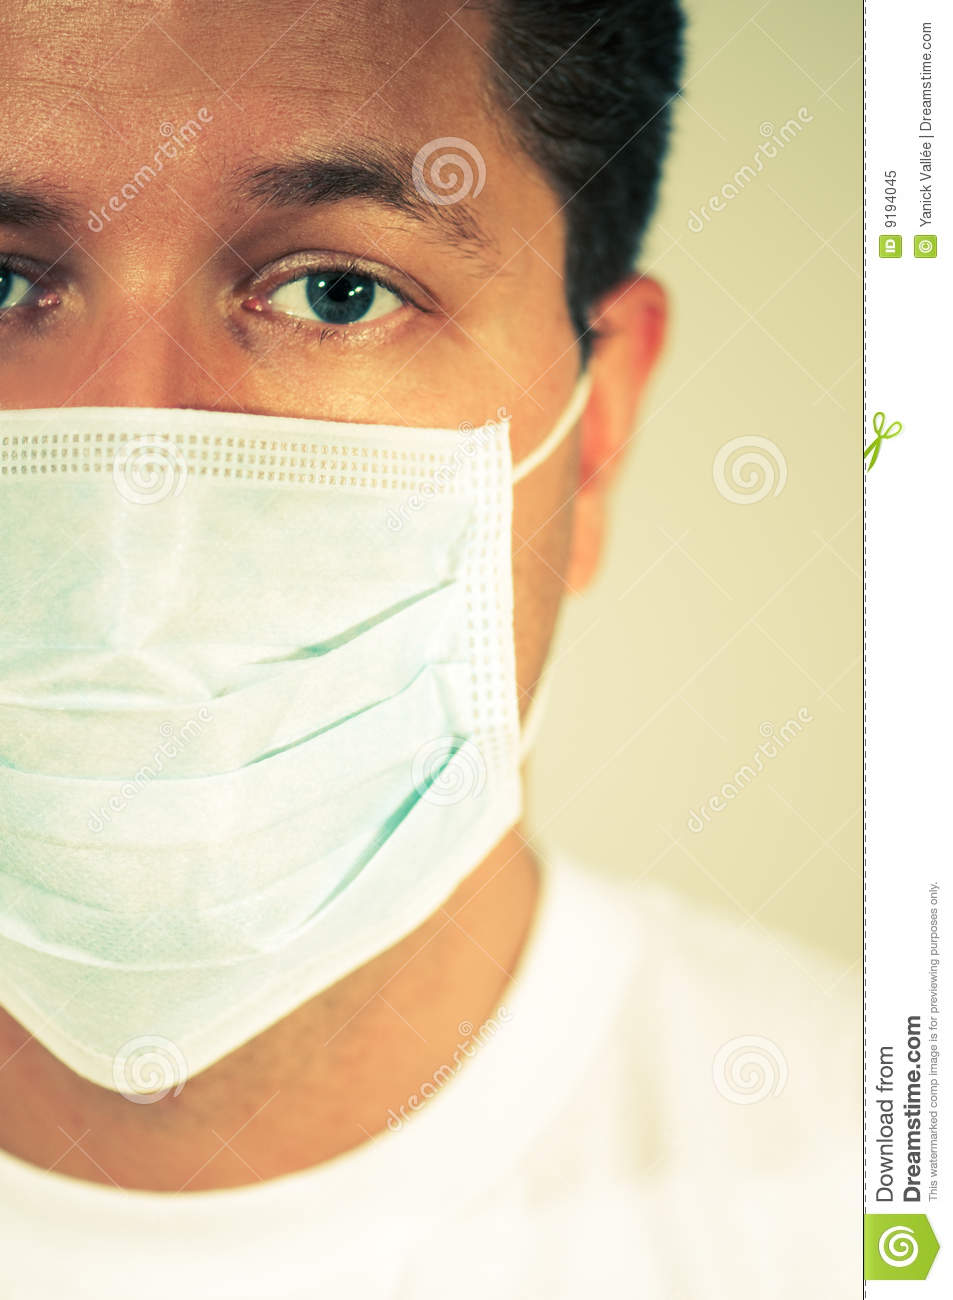mask: (3, 407, 530, 1095)
